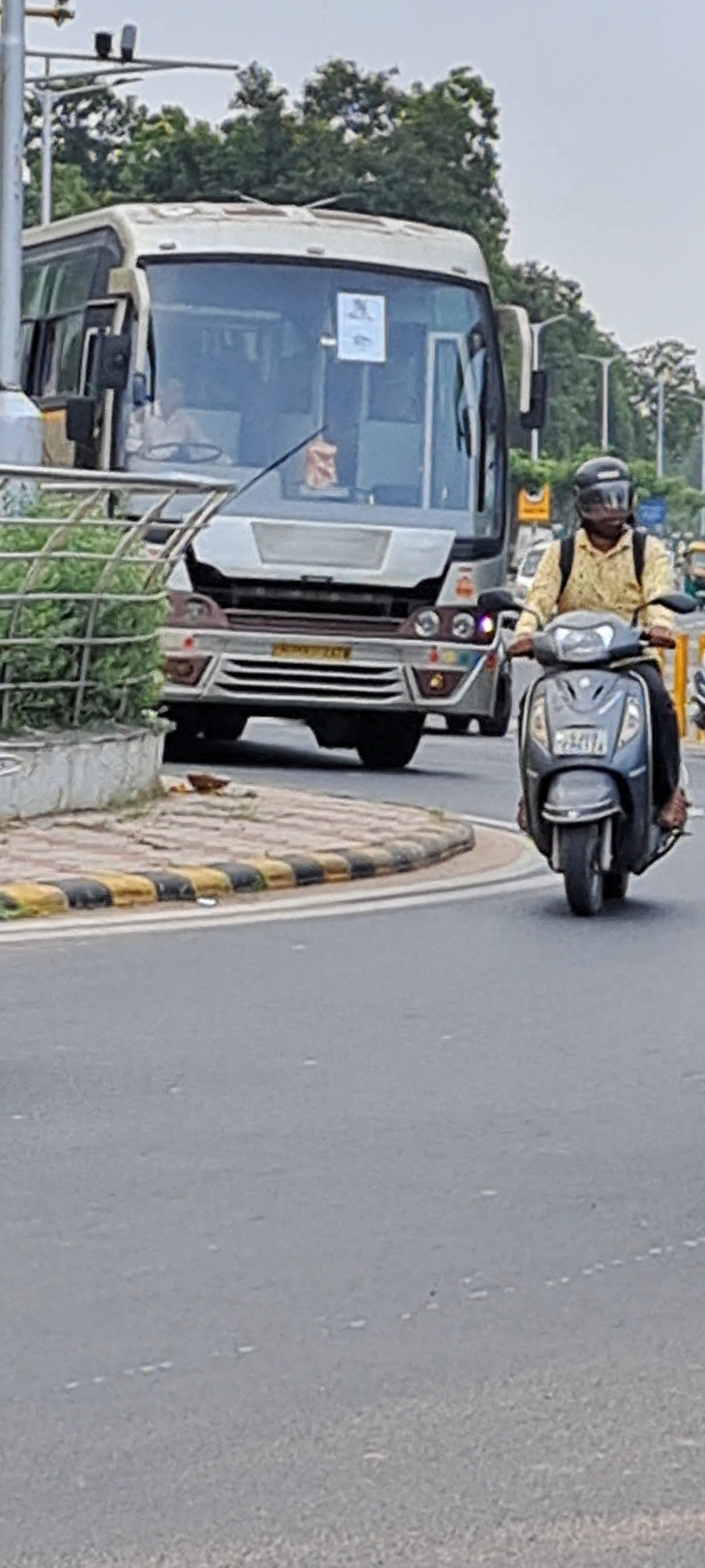BikeWithRider: (475, 444, 703, 927)
Helmet: (559, 446, 650, 549)
